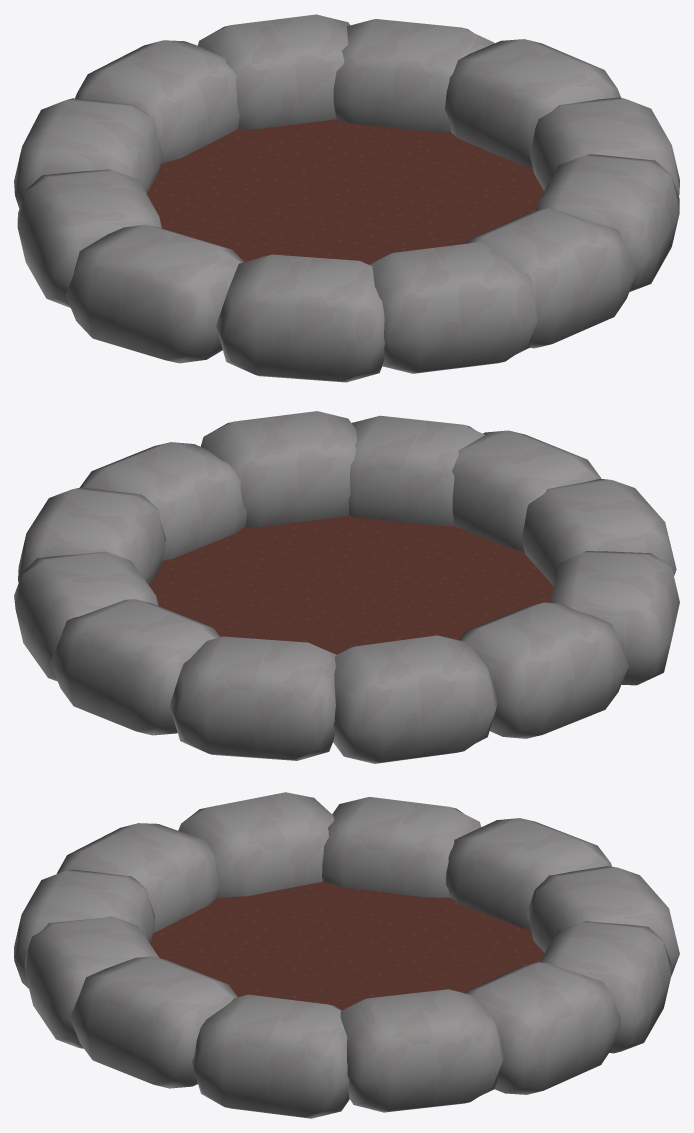
The model's file is Campfire.fbx.
The picture shows the model from 3 angles, top to bottom: view 1: azimuth 30°, elevation 25°; view 2: azimuth 150°, elevation 25°; view 3: azimuth 270°, elevation 25°; orthographic projection. The views are drawn at different scales.
Parts seen in each view (by area): view 1: CampfireBase, CampfirePebble17, CampfirePebble18, CampfirePebble10, CampfirePebble12, CampfirePebble15, CampfirePebble13, CampfirePebble6, CampfirePebble16, CampfirePebble19, CampfirePebble14, CampfirePebble20 (+1 smaller); view 2: CampfireBase, CampfirePebble16, CampfirePebble20, CampfirePebble19, CampfirePebble6, CampfirePebble14, CampfirePebble15, CampfirePebble18, CampfirePebble11, CampfirePebble10, CampfirePebble17, CampfirePebble12 (+1 smaller); view 3: CampfireBase, CampfirePebble12, CampfirePebble11, CampfirePebble14, CampfirePebble13, CampfirePebble19, CampfirePebble18, CampfirePebble20, CampfirePebble6, CampfirePebble17, CampfirePebble15, CampfirePebble16 (+1 smaller).
Boxes of the visible parts, x1,y1,x2,y2 form: CampfireBase: (147,119,543,264); CampfirePebble17: (216,254,384,382); CampfirePebble18: (65,224,243,363); CampfirePebble10: (369,242,538,373); CampfirePebble12: (444,39,620,167); CampfirePebble15: (465,208,636,348); CampfirePebble13: (333,19,494,132); CampfirePebble6: (198,14,350,128); CampfirePebble16: (75,40,239,163); CampfirePebble19: (17,169,161,307); CampfirePebble14: (536,154,679,291); CampfirePebble20: (14,98,162,208); CampfireBase: (149,515,553,654); CampfirePebble16: (169,636,336,760); CampfirePebble20: (333,635,497,763); CampfirePebble19: (459,602,628,738); CampfirePebble6: (50,599,219,735); CampfirePebble14: (200,411,356,526); CampfirePebble15: (348,415,484,525); CampfirePebble18: (550,551,679,685); CampfirePebble11: (80,442,246,560); CampfirePebble10: (452,430,600,551); CampfirePebble17: (521,478,676,586); CampfirePebble12: (18,487,165,585); CampfireBase: (150,881,544,1010); CampfirePebble12: (340,989,503,1112); CampfirePebble11: (192,994,349,1118); CampfirePebble14: (70,956,237,1088); CampfirePebble13: (464,962,620,1094); CampfirePebble19: (322,797,480,897); CampfirePebble18: (178,792,334,897); CampfirePebble20: (445,818,611,929); CampfirePebble6: (540,921,671,1053); CampfirePebble17: (57,823,219,932); CampfirePebble15: (24,916,159,1048); CampfirePebble16: (527,866,679,975).
Bounding box in the file's own units: 998 × 175 × 1029.
Materials: 2 (2 with a texture image).
